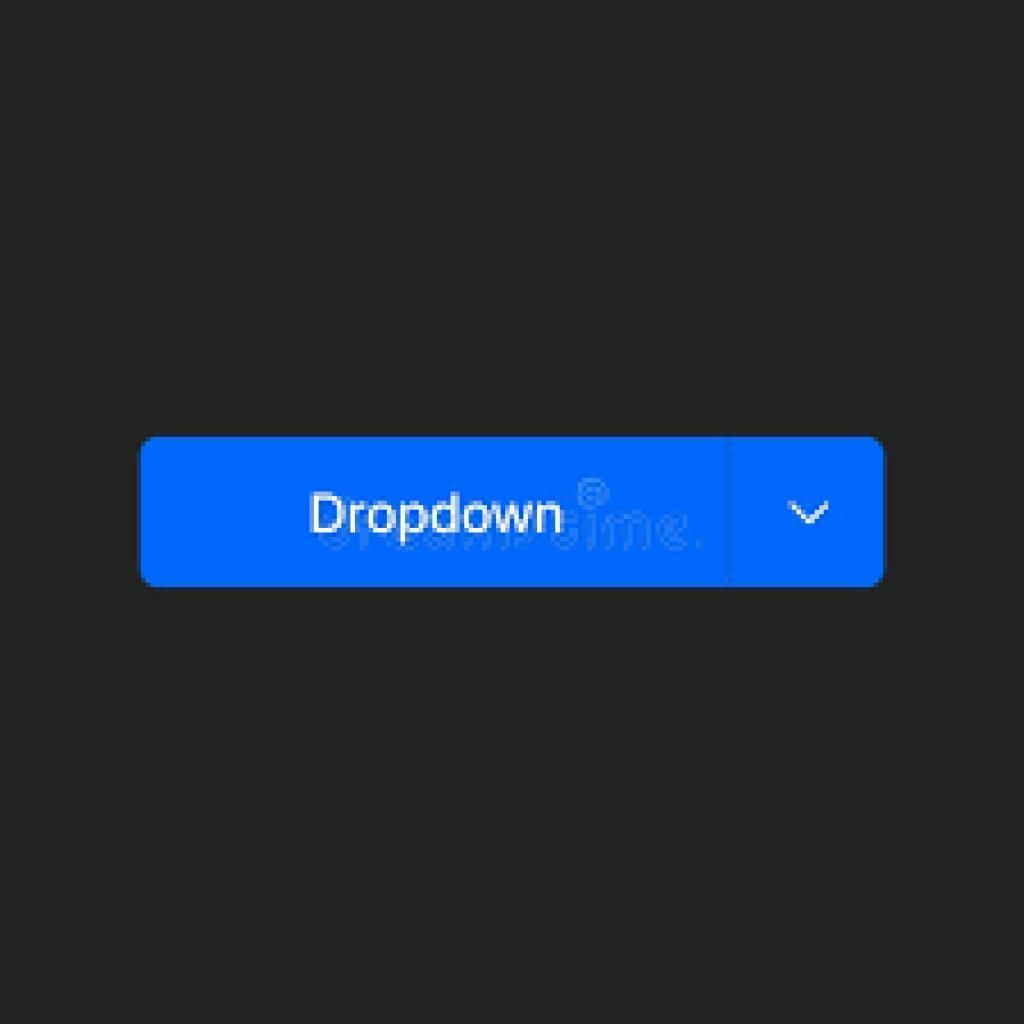dropdown: (140, 438, 886, 592)
